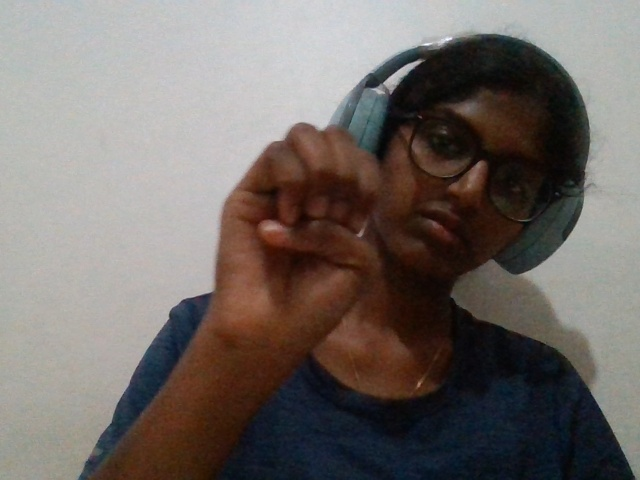E: (163, 108, 400, 405)
